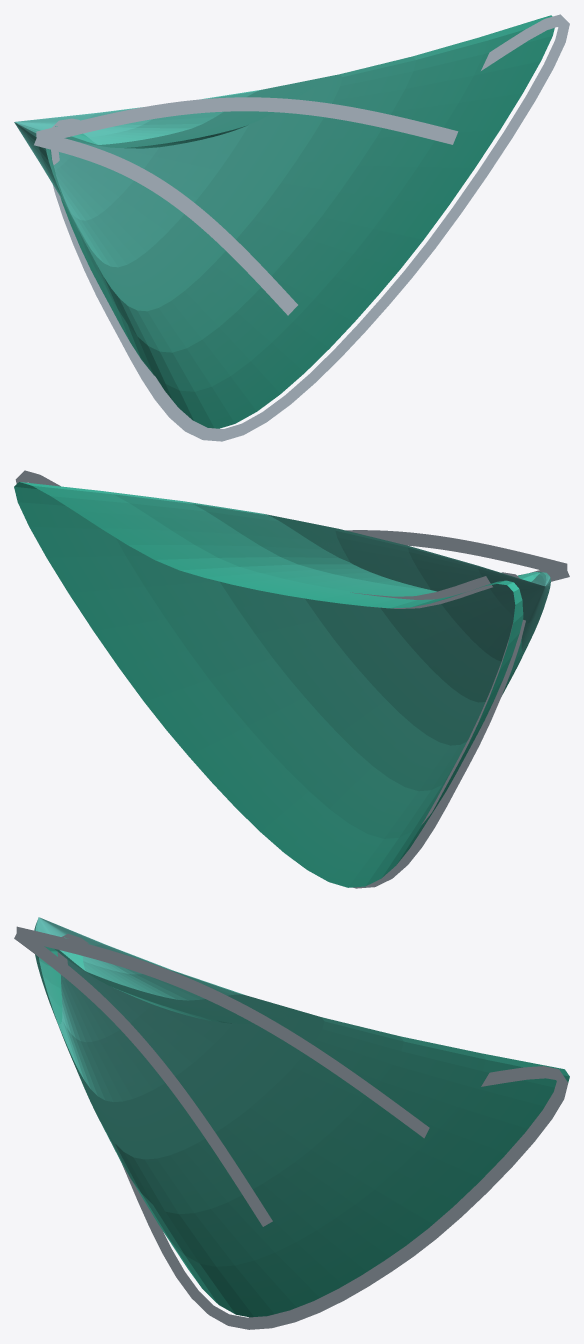
File: Sucrose_AstableAnemohypostasisCreation_ThreeTargets_WindWingLower1.fbx
3 views of the same model, one above another, from view 1: azimuth 30°, elevation 25°; view 2: azimuth 150°, elevation 25°; view 3: azimuth 330°, elevation 25° (orthographic). The views are drawn at different scales.
Visible parts, largest first — view 1: PART_AuthoredWindWing_Lower_1, PART_BrokenWindWingEdge_Lower_1, PART_FlowingWingVein_Lower_1_0, PART_FlowingWingVein_Lower_1_1; view 2: PART_AuthoredWindWing_Lower_1, PART_BrokenWindWingEdge_Lower_1, PART_FlowingWingVein_Lower_1_0; view 3: PART_AuthoredWindWing_Lower_1, PART_BrokenWindWingEdge_Lower_1, PART_FlowingWingVein_Lower_1_0, PART_FlowingWingVein_Lower_1_1.
Boxes of the visible parts, x1=… form: PART_AuthoredWindWing_Lower_1: x1=14, y1=15, x2=554, y2=428; PART_BrokenWindWingEdge_Lower_1: x1=51, y1=14, x2=569, y2=441; PART_FlowingWingVein_Lower_1_0: x1=36, y1=97, x2=458, y2=144; PART_FlowingWingVein_Lower_1_1: x1=34, y1=132, x2=297, y2=315; PART_AuthoredWindWing_Lower_1: x1=14, y1=482, x2=550, y2=887; PART_BrokenWindWingEdge_Lower_1: x1=15, y1=470, x2=525, y2=888; PART_FlowingWingVein_Lower_1_0: x1=346, y1=530, x2=567, y2=576; PART_AuthoredWindWing_Lower_1: x1=34, y1=917, x2=569, y2=1317; PART_BrokenWindWingEdge_Lower_1: x1=57, y1=933, x2=568, y2=1329; PART_FlowingWingVein_Lower_1_0: x1=16, y1=926, x2=429, y2=1138; PART_FlowingWingVein_Lower_1_1: x1=14, y1=930, x2=272, y2=1226.
Bounding box in the file's own units: 170 × 109 × 12.
